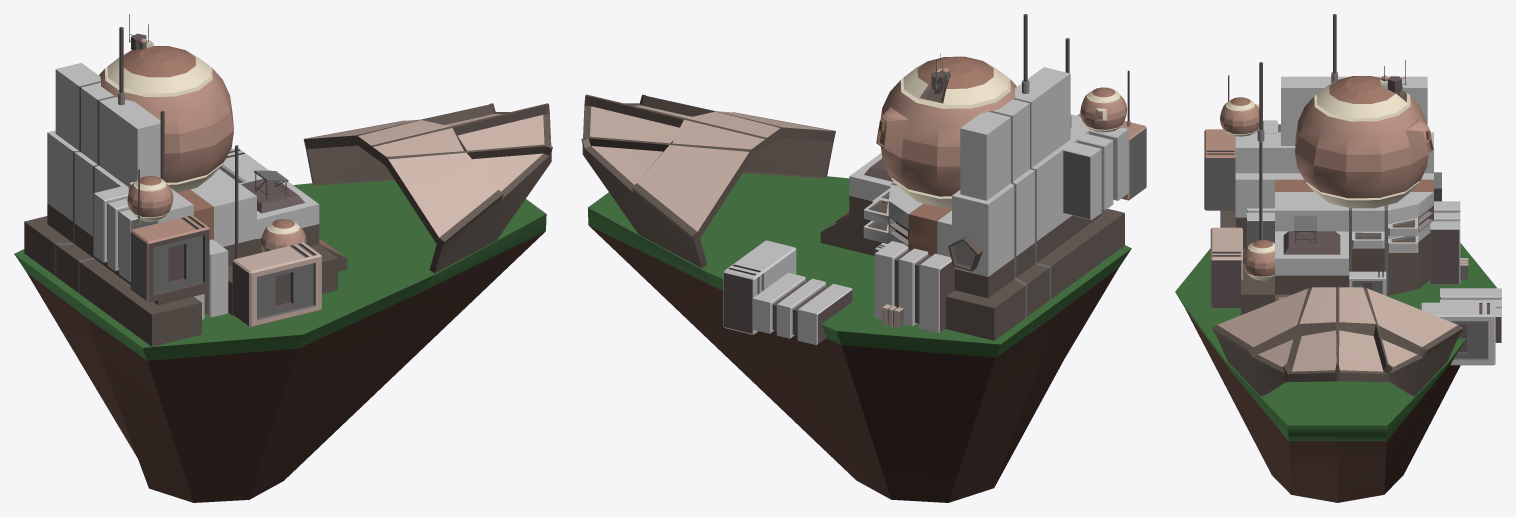
The model's file is Bridge Final Export.fbx.
3 views of the same model, side by side, from view 1: azimuth 30°, elevation 25°; view 2: azimuth 150°, elevation 25°; view 3: azimuth 270°, elevation 25° (orthographic). The views are drawn at different scales.
Visible parts, largest first — view 1: base, buildimg, roof, orb, spacecube2, spacecube3, cubegrate2, orb2, cubegrate, orb1, spacecube1; view 2: base, buildimg, roof, orb, cubegrate4, cubegrate2, cubegrate1, spacecube1, orb2, spacecube3, sidepentagon; view 3: base, buildimg, roof, orb, spacecube1, spacecube2, spacecube3, cubegrate4, orb2, cubegrate1, orb1, cubegrate (+4 smaller).
Boxes of the visible parts, x1=… form: base: x1=14, y1=180, x2=546, y2=502; buildimg: x1=24, y1=63, x2=347, y2=346; roof: x1=303, y1=103, x2=552, y2=273; orb: x1=99, y1=46, x2=233, y2=192; spacecube2: x1=232, y1=242, x2=321, y2=327; spacecube3: x1=130, y1=215, x2=209, y2=302; cubegrate2: x1=93, y1=186, x2=157, y2=281; orb2: x1=127, y1=176, x2=173, y2=221; cubegrate: x1=194, y1=239, x2=228, y2=319; orb1: x1=260, y1=219, x2=306, y2=252; spacecube1: x1=219, y1=148, x2=268, y2=183; base: x1=588, y1=173, x2=1131, y2=502; buildimg: x1=820, y1=67, x2=1124, y2=340; roof: x1=581, y1=94, x2=835, y2=268; orb: x1=876, y1=56, x2=1016, y2=207; cubegrate4: x1=874, y1=241, x2=954, y2=332; cubegrate2: x1=1062, y1=127, x2=1128, y2=219; cubegrate1: x1=752, y1=272, x2=852, y2=345; spacecube1: x1=723, y1=240, x2=796, y2=334; orb2: x1=1080, y1=87, x2=1127, y2=132; spacecube3: x1=1077, y1=113, x2=1146, y2=200; sidepentagon: x1=948, y1=236, x2=982, y2=271; base: x1=1175, y1=243, x2=1496, y2=502; buildimg: x1=1220, y1=76, x2=1433, y2=314; roof: x1=1212, y1=287, x2=1463, y2=396; orb: x1=1295, y1=76, x2=1434, y2=208; spacecube1: x1=1420, y1=302, x2=1495, y2=365; spacecube2: x1=1210, y1=227, x2=1242, y2=308; spacecube3: x1=1204, y1=129, x2=1235, y2=210; cubegrate4: x1=1430, y1=201, x2=1460, y2=284; orb2: x1=1220, y1=97, x2=1259, y2=137; cubegrate1: x1=1440, y1=288, x2=1501, y2=342; orb1: x1=1243, y1=239, x2=1274, y2=280; cubegrate: x1=1247, y1=208, x2=1274, y2=246.
Size of the model in its own units: 16.29 by 15.36 by 10.84.
